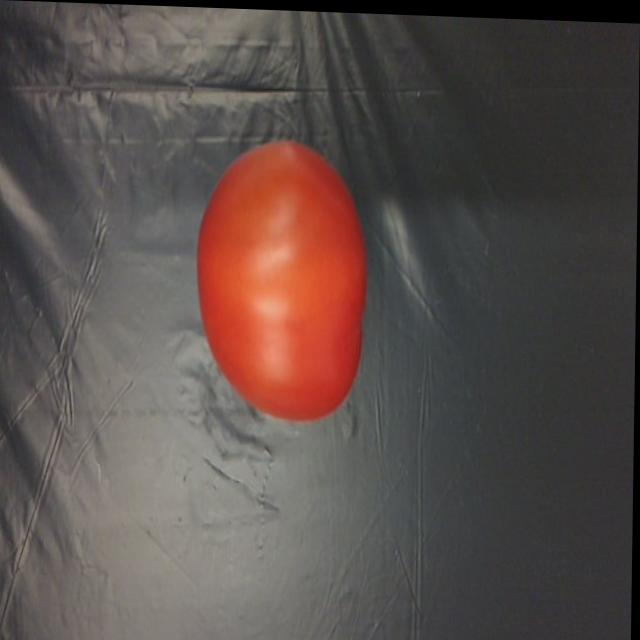kirmizi: (191, 120, 376, 432)
